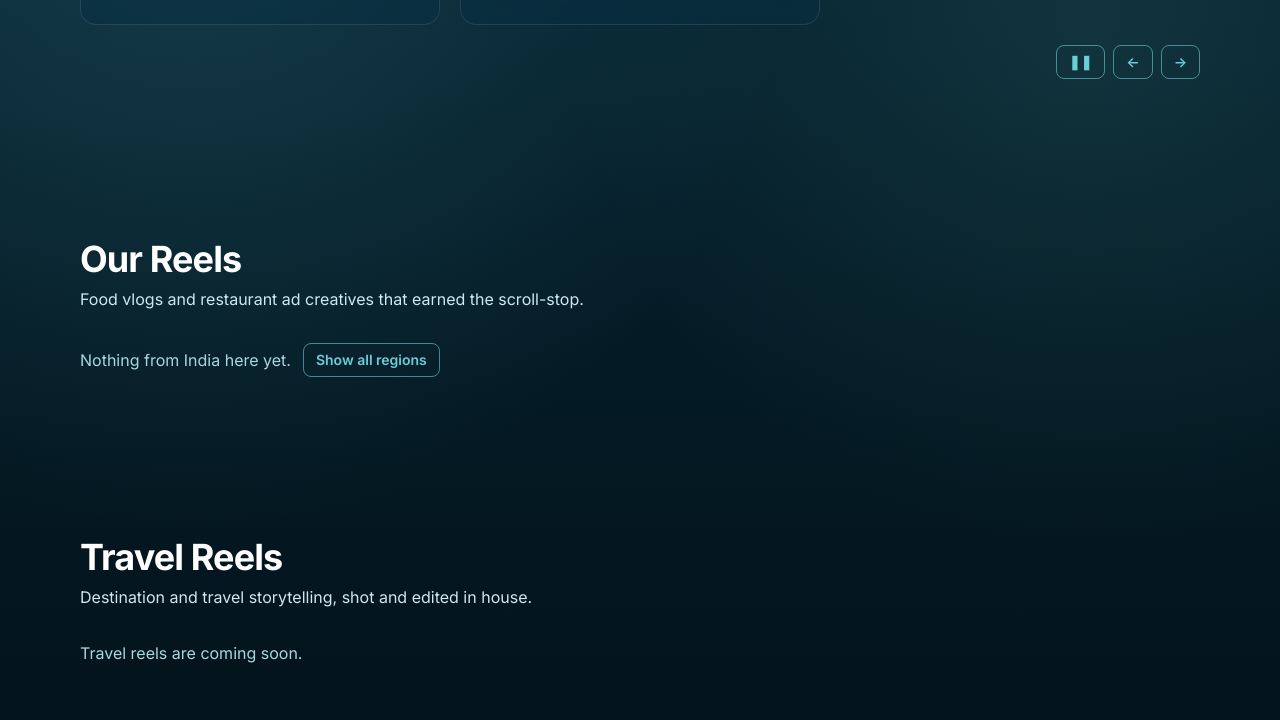
it: HomePage by region › an empty region offers to show all regions instead of looking broken
(page scrolled)
Expected: the text "Stuttgart vegan" is not shown
Expected: the text "Nothing from India here yet." is shown, x1=80 y1=348 x2=291 y2=372
Click the button "Show all regions" at [371, 360], box x1=303 y1=343 x2=440 y2=377
(page scrolled)
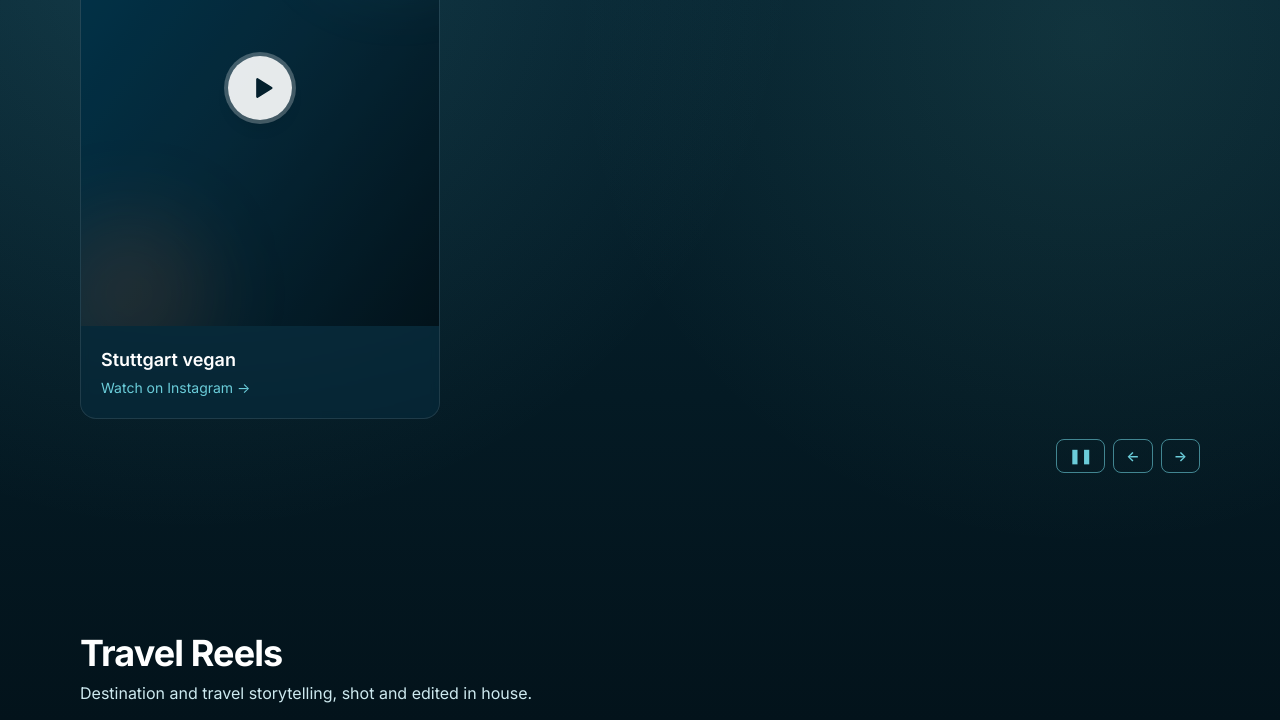
Expected: the heading "Stuttgart vegan" is shown, x1=101 y1=349 x2=236 y2=370
